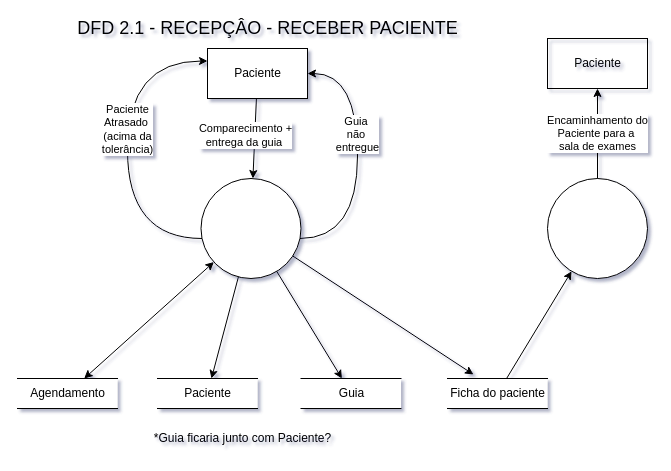
Image size: 671x471. Some labels were removed from this diagram. Each missing label, with the centre of its shape:
Encaminhar para realizar o Exame: point (597, 228)
Receber o Paciente: point (250, 228)
